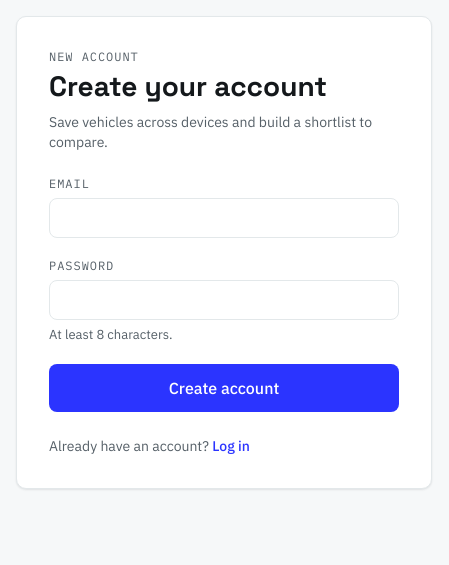
Test case: Register › surfaces the duplicate-email error from the server
In the field labelled "Email": point(224, 218) [49,198,399,238], type "taken@volt.test"
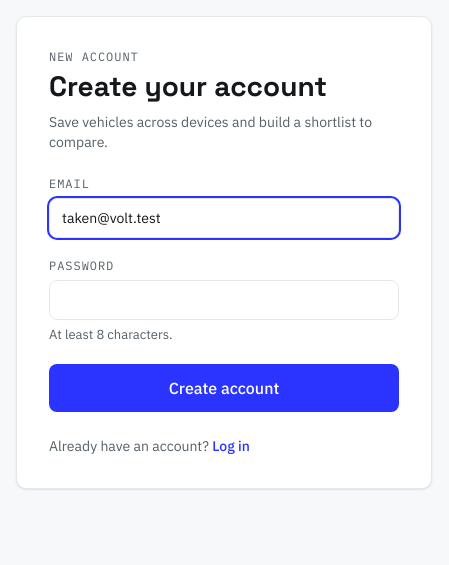
In the password field labelled "Password": point(224, 300) [49,280,399,320], type "supersecret"
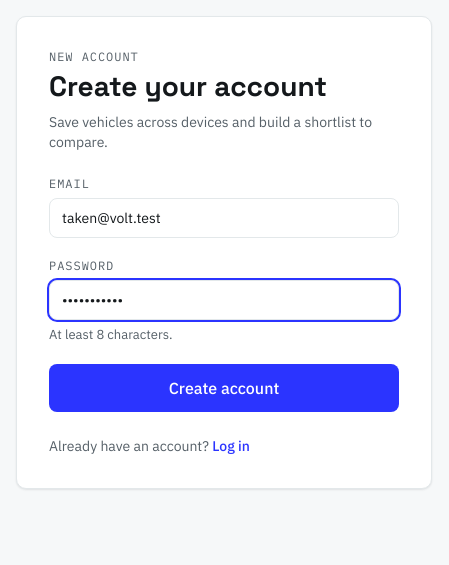
Click the button "Create account": point(224, 388) [49,364,399,412]
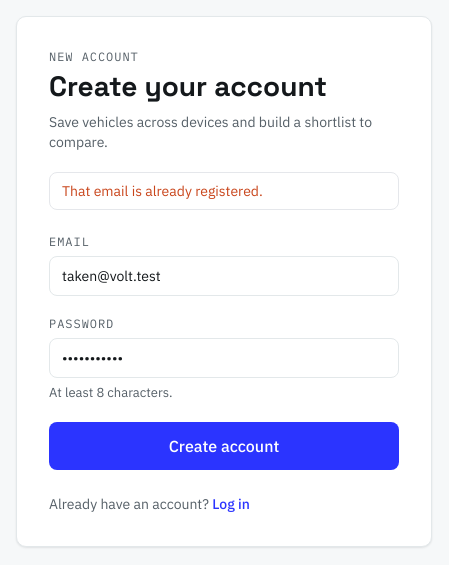
Check: the message reads "That email is already registered.", box [62,182,263,200]
